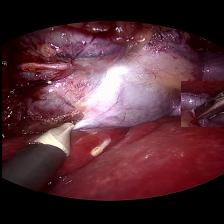Grasper: (180, 81, 224, 127)
Hook: (19, 118, 85, 158)
